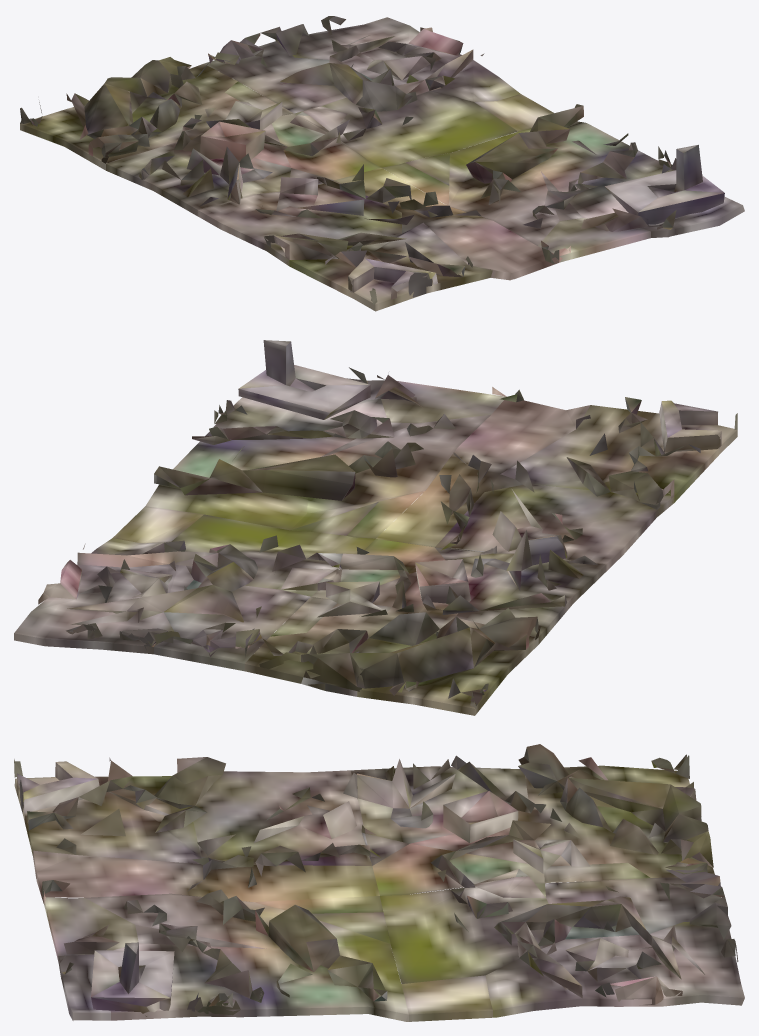
The picture shows the model from 3 angles, top to bottom: view 1: azimuth 30°, elevation 25°; view 2: azimuth 150°, elevation 25°; view 3: azimuth 270°, elevation 25°; orthographic projection. The views are drawn at different scales.
Parts seen in each view (by area): view 1: Mesh_0; view 2: Mesh_0; view 3: Mesh_0.
Part boxes in pixels (x1=…): Mesh_0: x1=20, y1=16, x2=744, y2=311; Mesh_0: x1=14, y1=340, x2=737, y2=715; Mesh_0: x1=14, y1=744, x2=744, y2=1021.
Bounding box in the file's own units: 542 × 74.65 × 660.
1 material, 1 textured.
